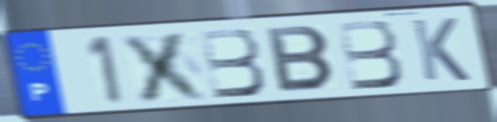1: (85, 33, 126, 107)
B: (334, 17, 407, 92), (197, 26, 269, 101), (264, 24, 339, 95)
K: (408, 16, 474, 84)
X: (118, 29, 213, 104)
